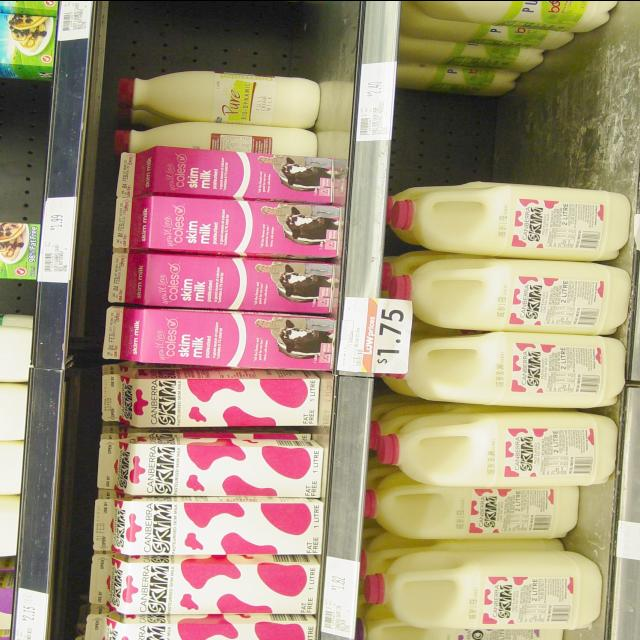empty_space: (400, 82, 624, 178), (122, 0, 322, 70), (4, 86, 37, 212), (3, 284, 29, 309)
